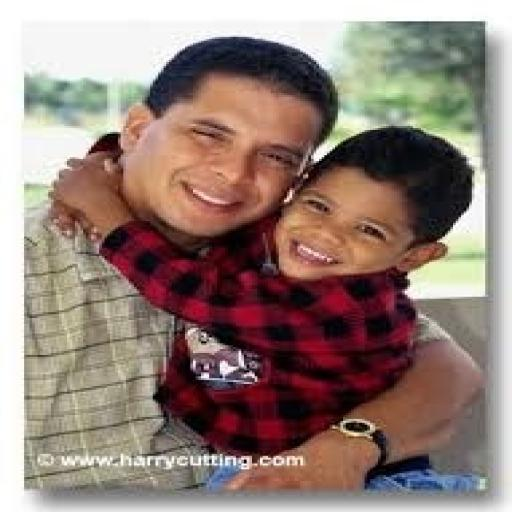hugging: (35, 33, 488, 496)
